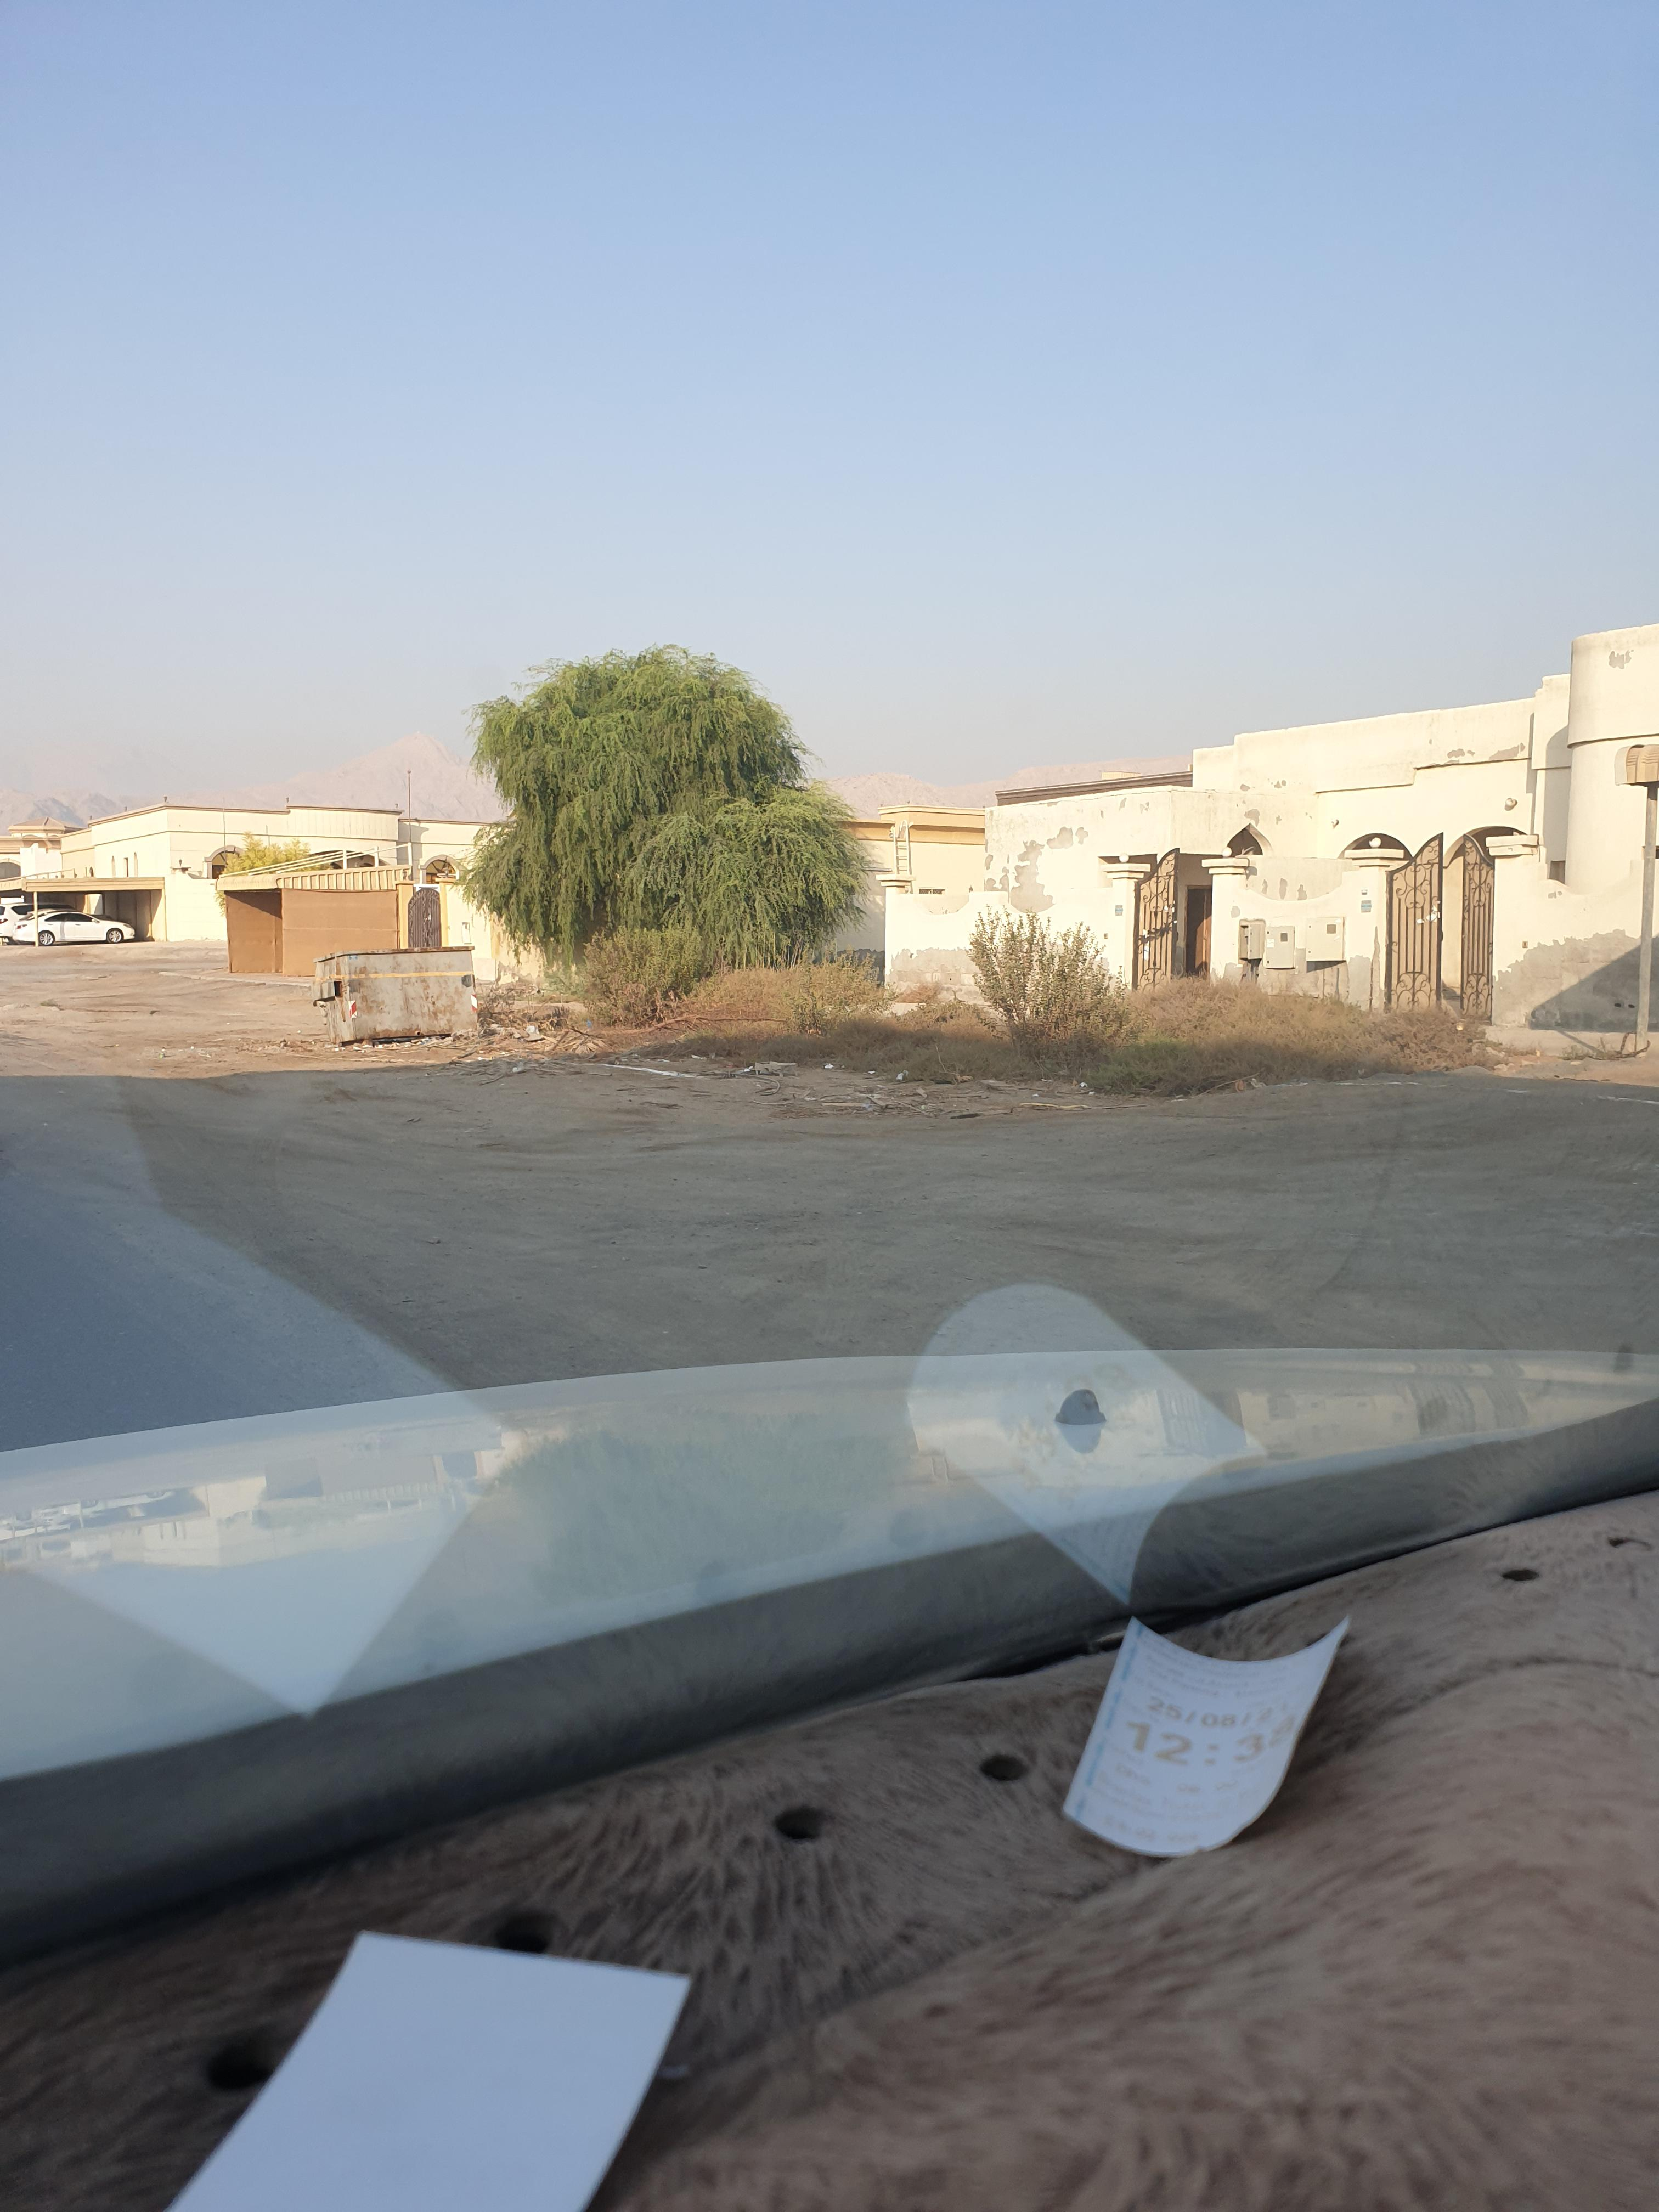fallen_trees: (730, 1075, 850, 1125), (430, 1050, 570, 1083), (549, 1017, 624, 1047), (481, 1059, 558, 1085), (331, 1054, 450, 1066)
